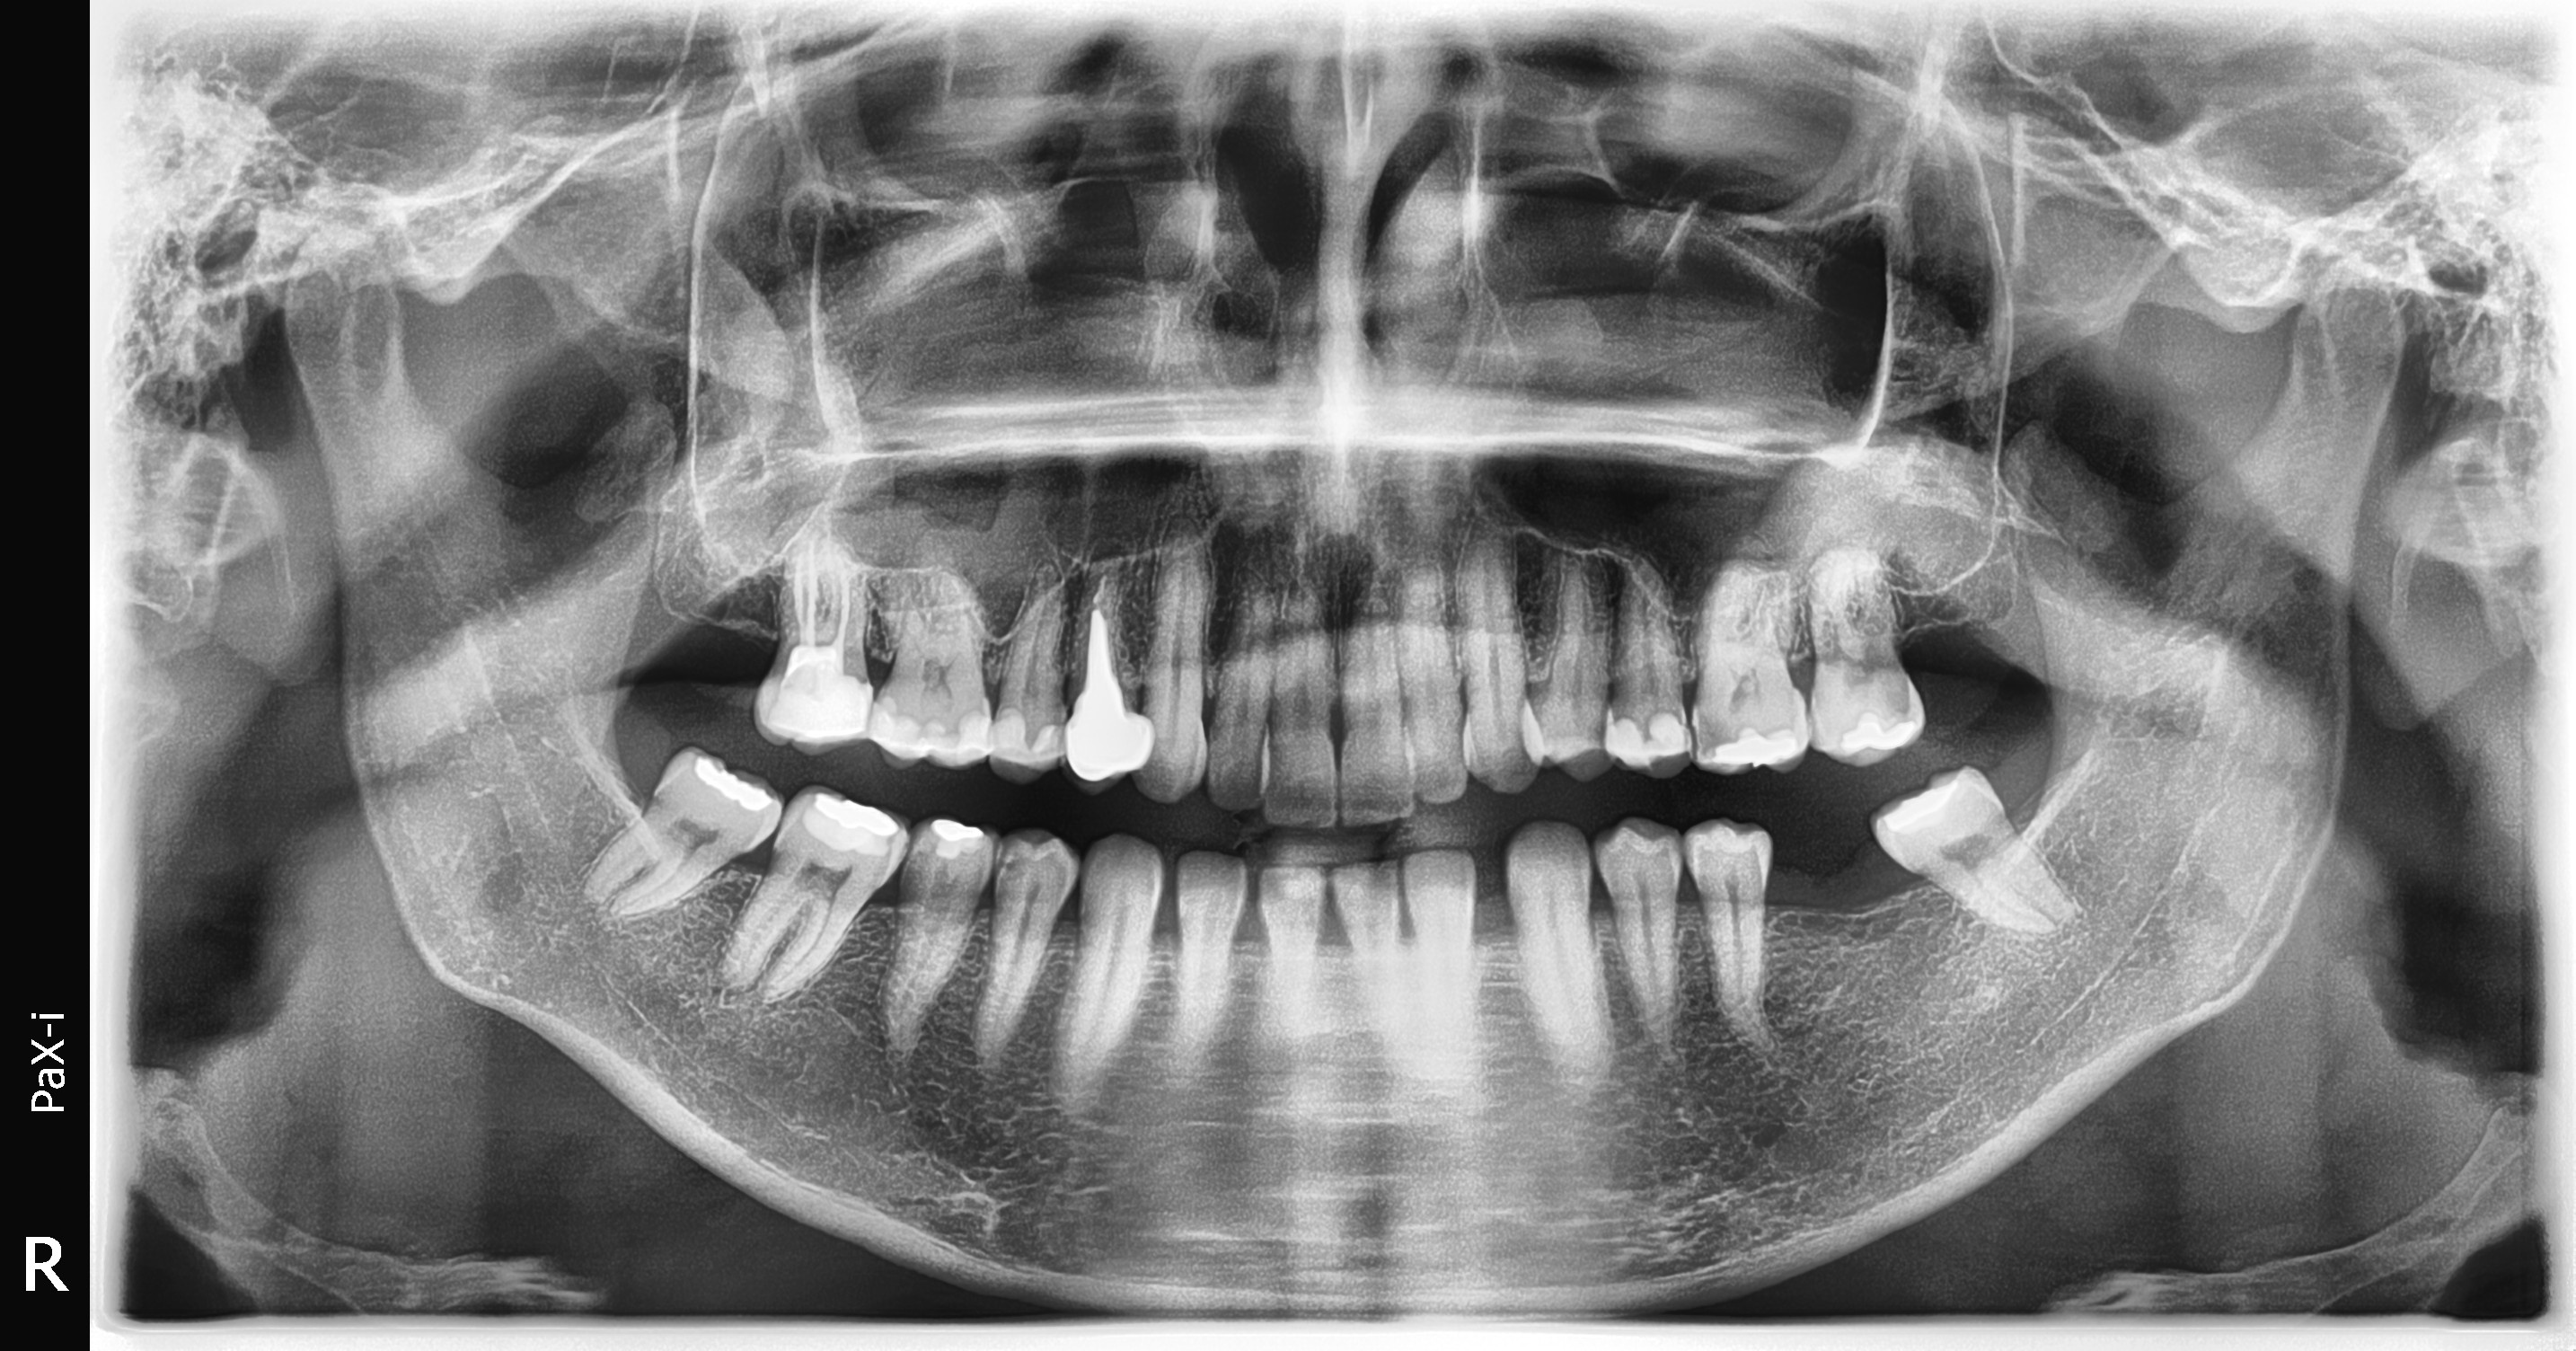APS: (1078, 526, 1150, 572)
CAR: (1676, 700, 1757, 772), (1862, 680, 1935, 726), (625, 773, 678, 819), (980, 852, 1041, 886)
END: (779, 538, 874, 651), (1073, 557, 1128, 630)
OBT: (864, 676, 995, 772), (762, 654, 884, 751), (770, 785, 918, 862), (673, 739, 789, 823), (1702, 707, 1813, 784), (1874, 763, 1976, 845), (981, 700, 1078, 782), (1600, 697, 1693, 768), (905, 809, 1012, 871), (1823, 705, 1925, 767)
PRR: (1063, 637, 1174, 794)
